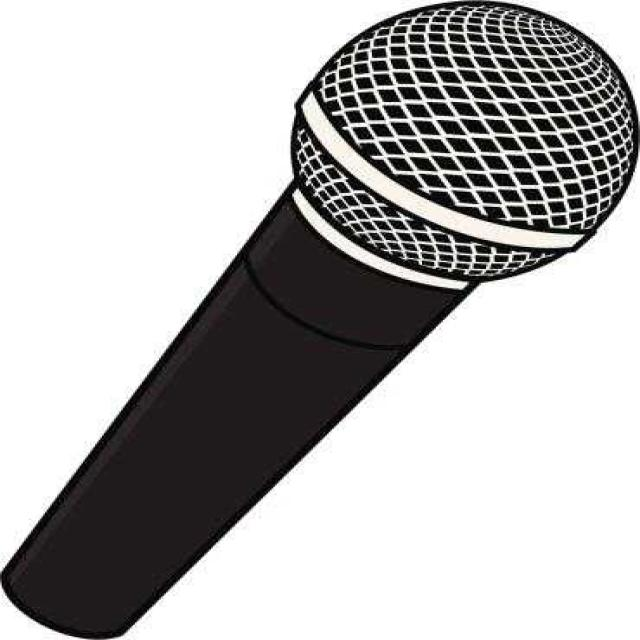microphone: (14, 4, 620, 634)
